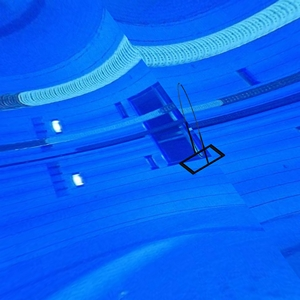circle: (174, 81, 227, 176)
